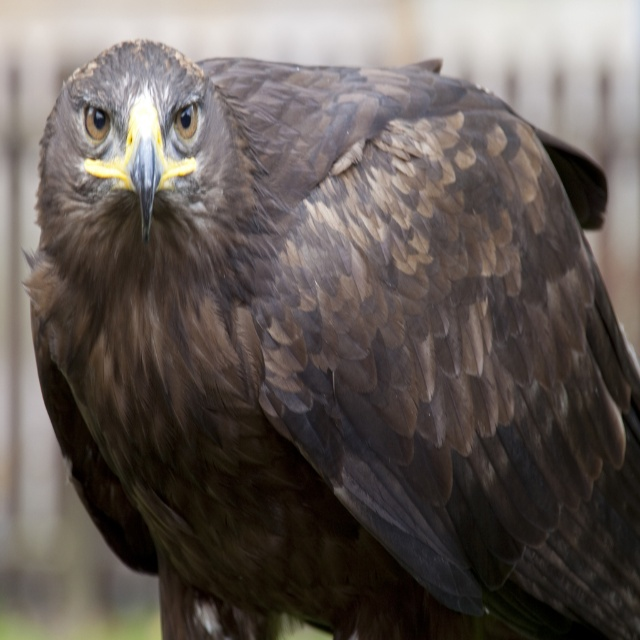Eagle: (20, 37, 640, 639)
